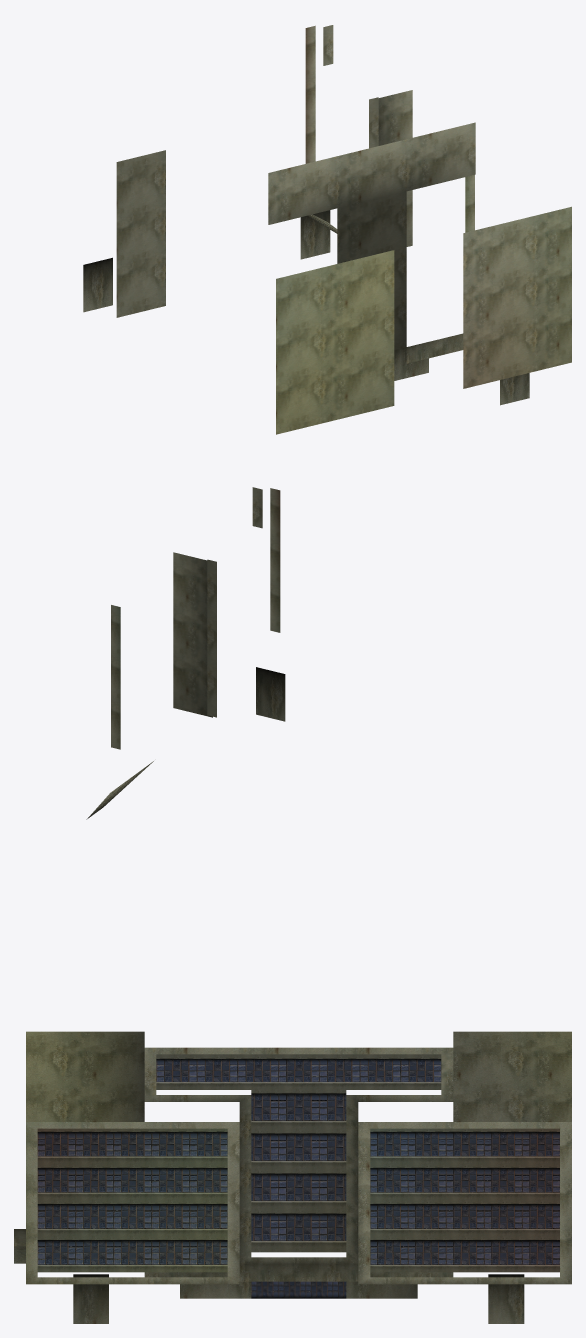
The model's file is M10_Z01_11_Tower.glb.
3 views of the same model, one above another, from view 1: azimuth 30°, elevation 25°; view 2: azimuth 150°, elevation 25°; view 3: azimuth 270°, elevation 25° (orthographic). The views are drawn at different scales.
Parts seen in each view (by area): view 1: M10_Z01_11_TOWER; view 2: M10_Z01_11_TOWER; view 3: M10_Z01_11_TOWER.
Part boxes in pixels (x1=…): M10_Z01_11_TOWER: x1=83, y1=25, x2=571, y2=434; M10_Z01_11_TOWER: x1=86, y1=487, x2=285, y2=819; M10_Z01_11_TOWER: x1=14, y1=1031, x2=571, y2=1323.
Size of the model in its own units: 30 by 24.75 by 47.
2 materials, 2 textured.
